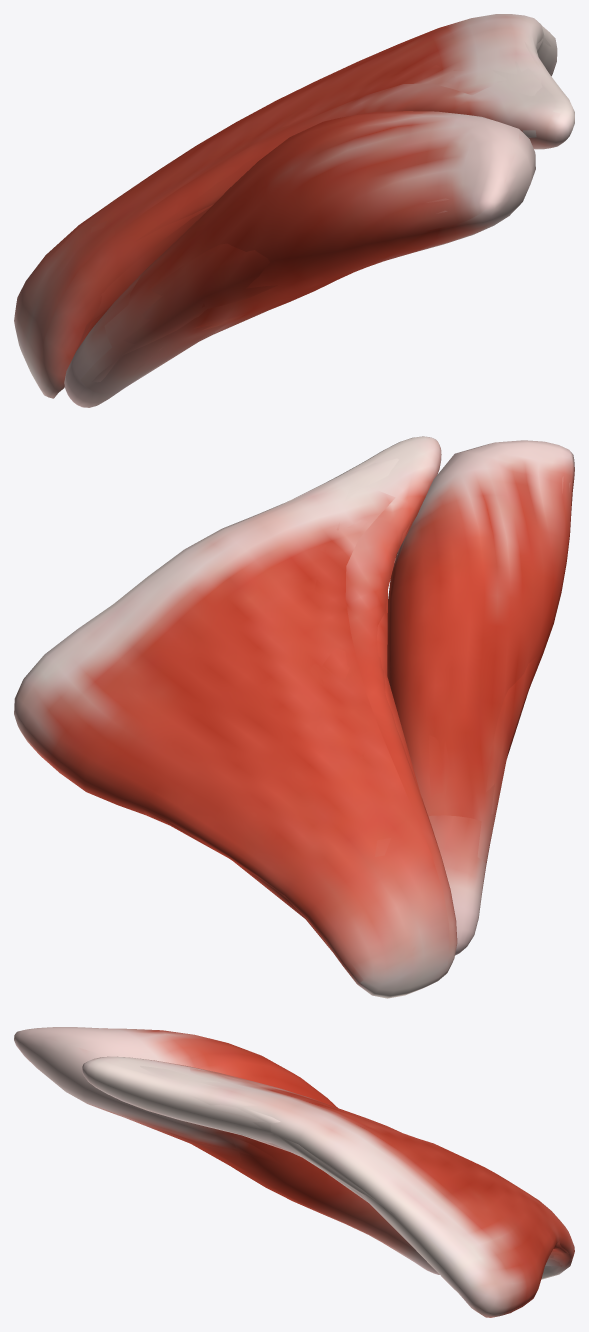
Rendered from R Gluteus Profundus.fbx.
3 renders of one model, top to bottom at view 1: azimuth 30°, elevation 25°; view 2: azimuth 150°, elevation 25°; view 3: azimuth 270°, elevation 25°, orthographic. The views are drawn at different scales.
Visible parts, largest first — view 1: R Gluteus Profundus, R Gluteus Profundus low; view 2: R Gluteus Profundus, R Gluteus Profundus low; view 3: R Gluteus Profundus, R Gluteus Profundus low.
Boxes of the visible parts, box(x1,y1,x2,y2) form: R Gluteus Profundus: box(14, 14, 574, 407); R Gluteus Profundus low: box(26, 35, 551, 386); R Gluteus Profundus: box(14, 436, 574, 998); R Gluteus Profundus low: box(142, 458, 570, 950); R Gluteus Profundus: box(14, 1027, 574, 1317); R Gluteus Profundus low: box(131, 1065, 568, 1266).
Bounding box in the file's own units: 15.71 × 11.85 × 19.06.
